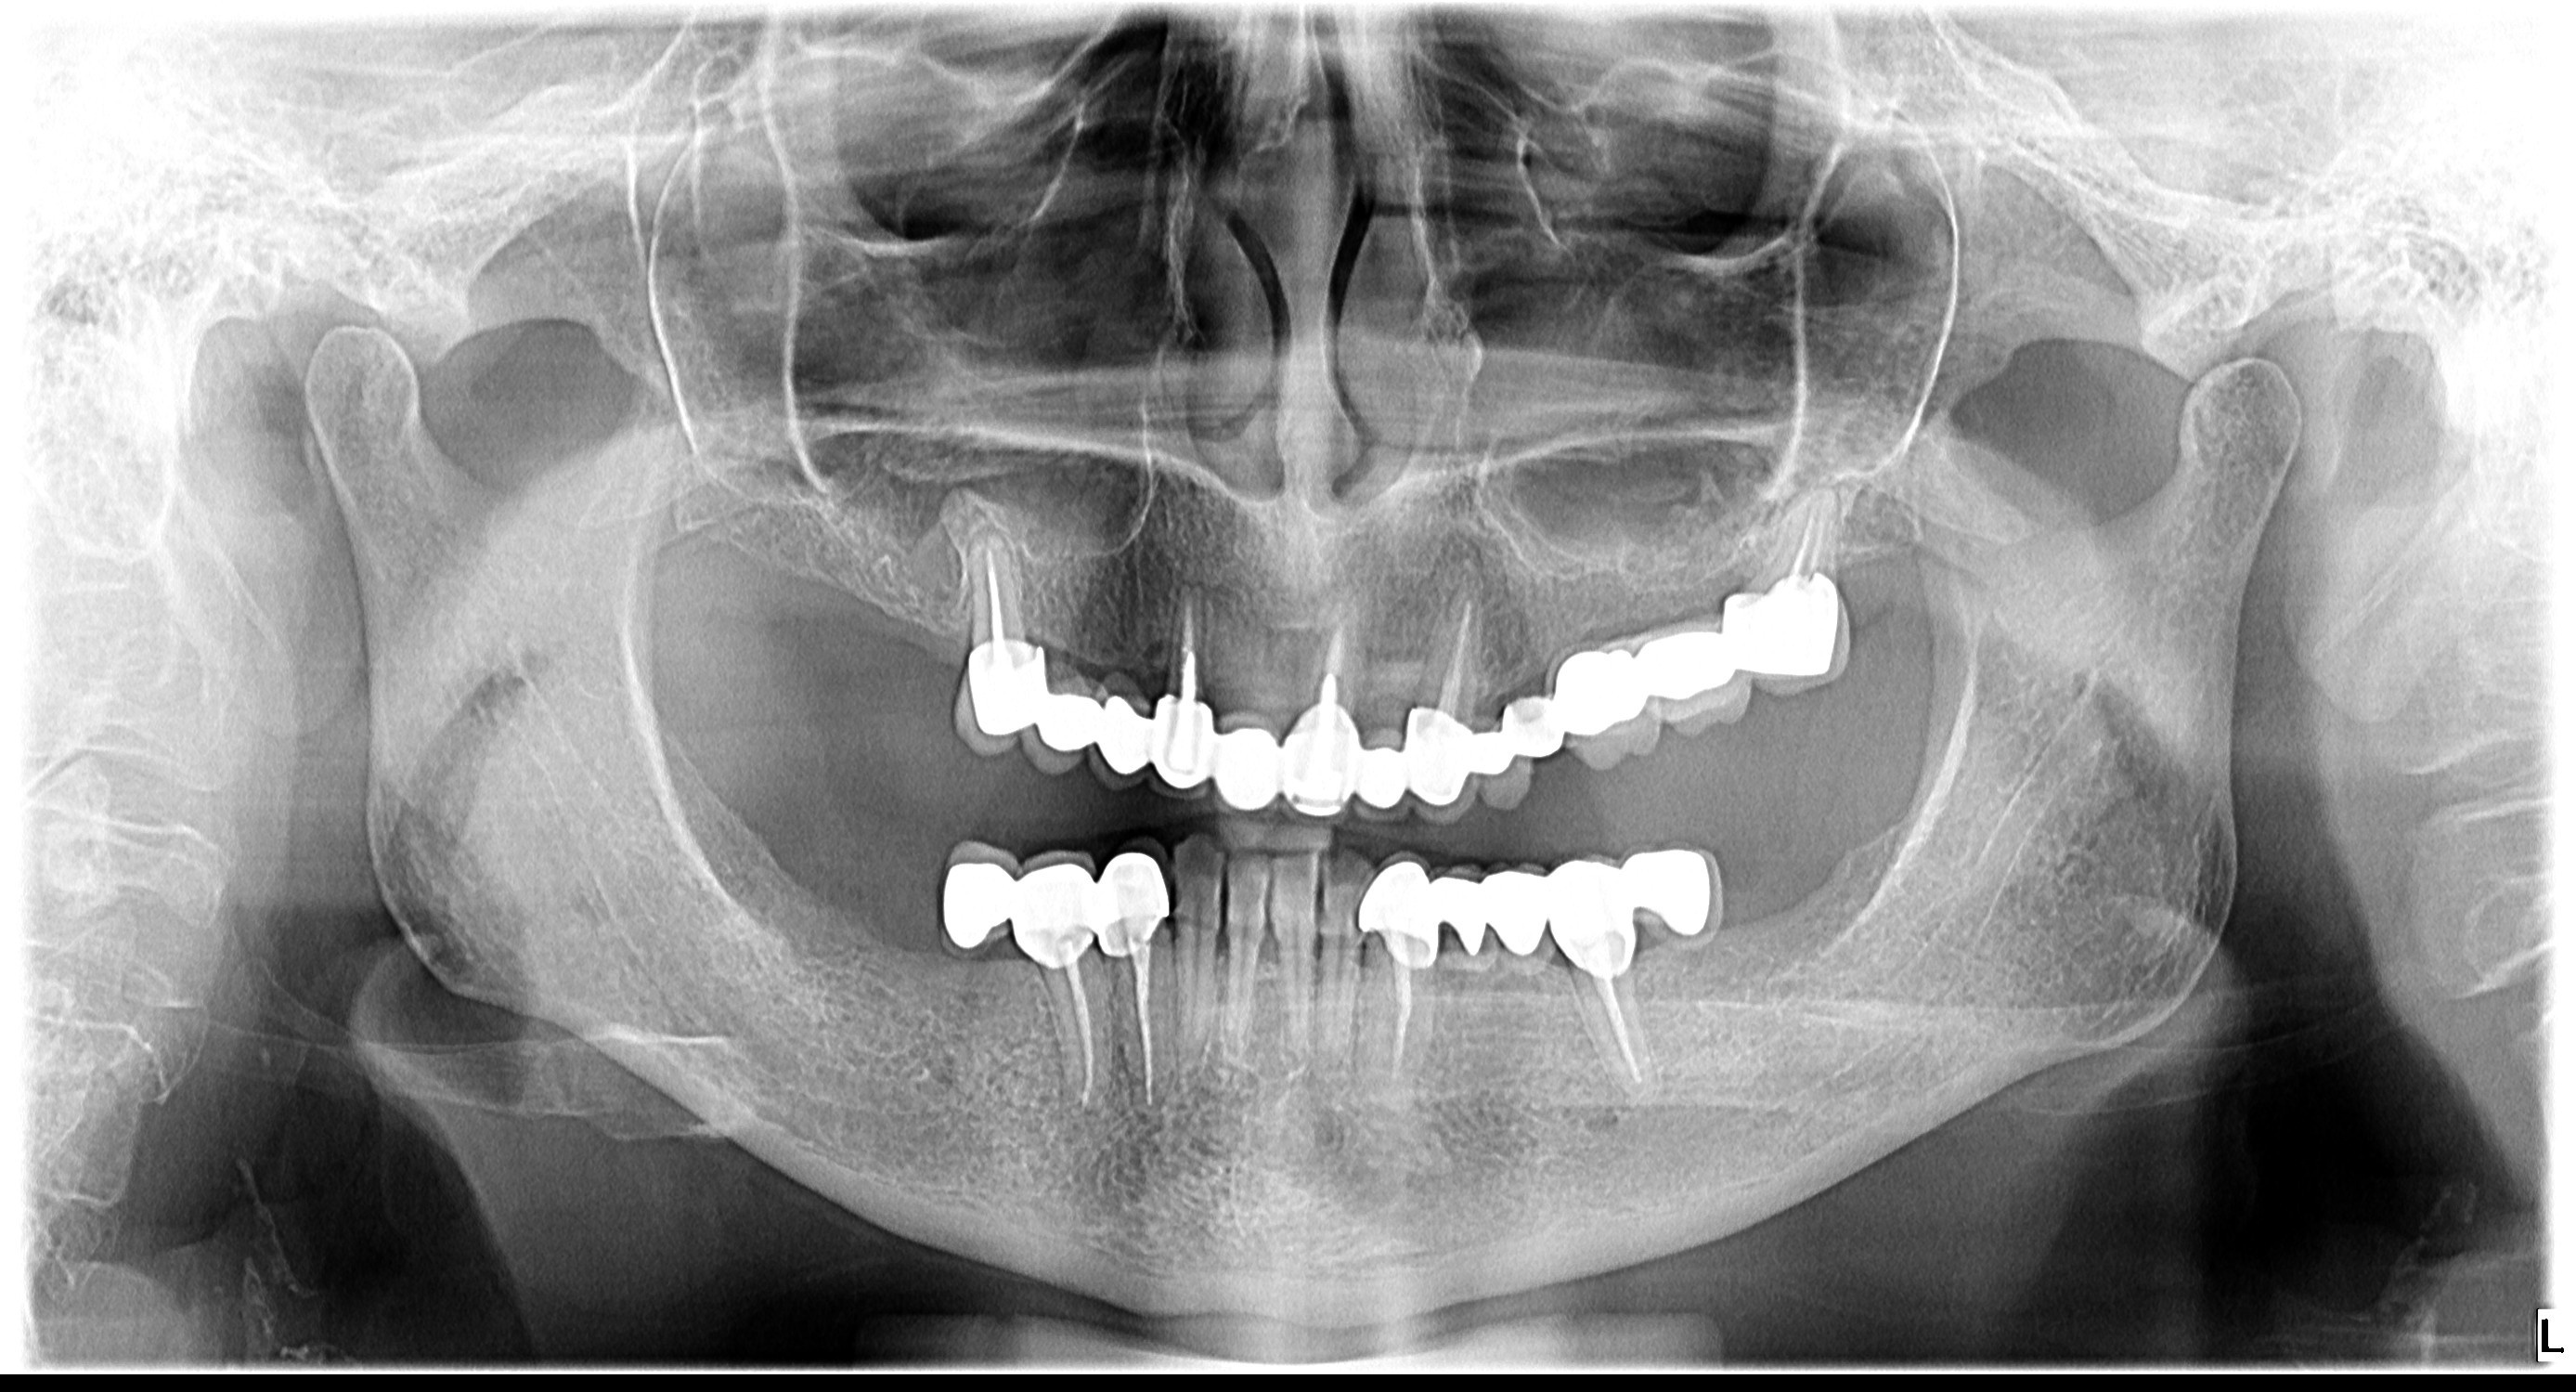CAR: (550, 420, 1733, 1377)
END: (748, 422, 2406, 1392), (663, 413, 2081, 1392), (538, 386, 1701, 1392), (493, 401, 1600, 1392), (678, 226, 2162, 936), (850, 192, 2576, 775), (641, 242, 1999, 958), (562, 226, 1762, 924), (459, 182, 1475, 828)
PRR: (486, 343, 2211, 1337), (0, 144, 1843, 986), (332, 336, 1509, 1317)
